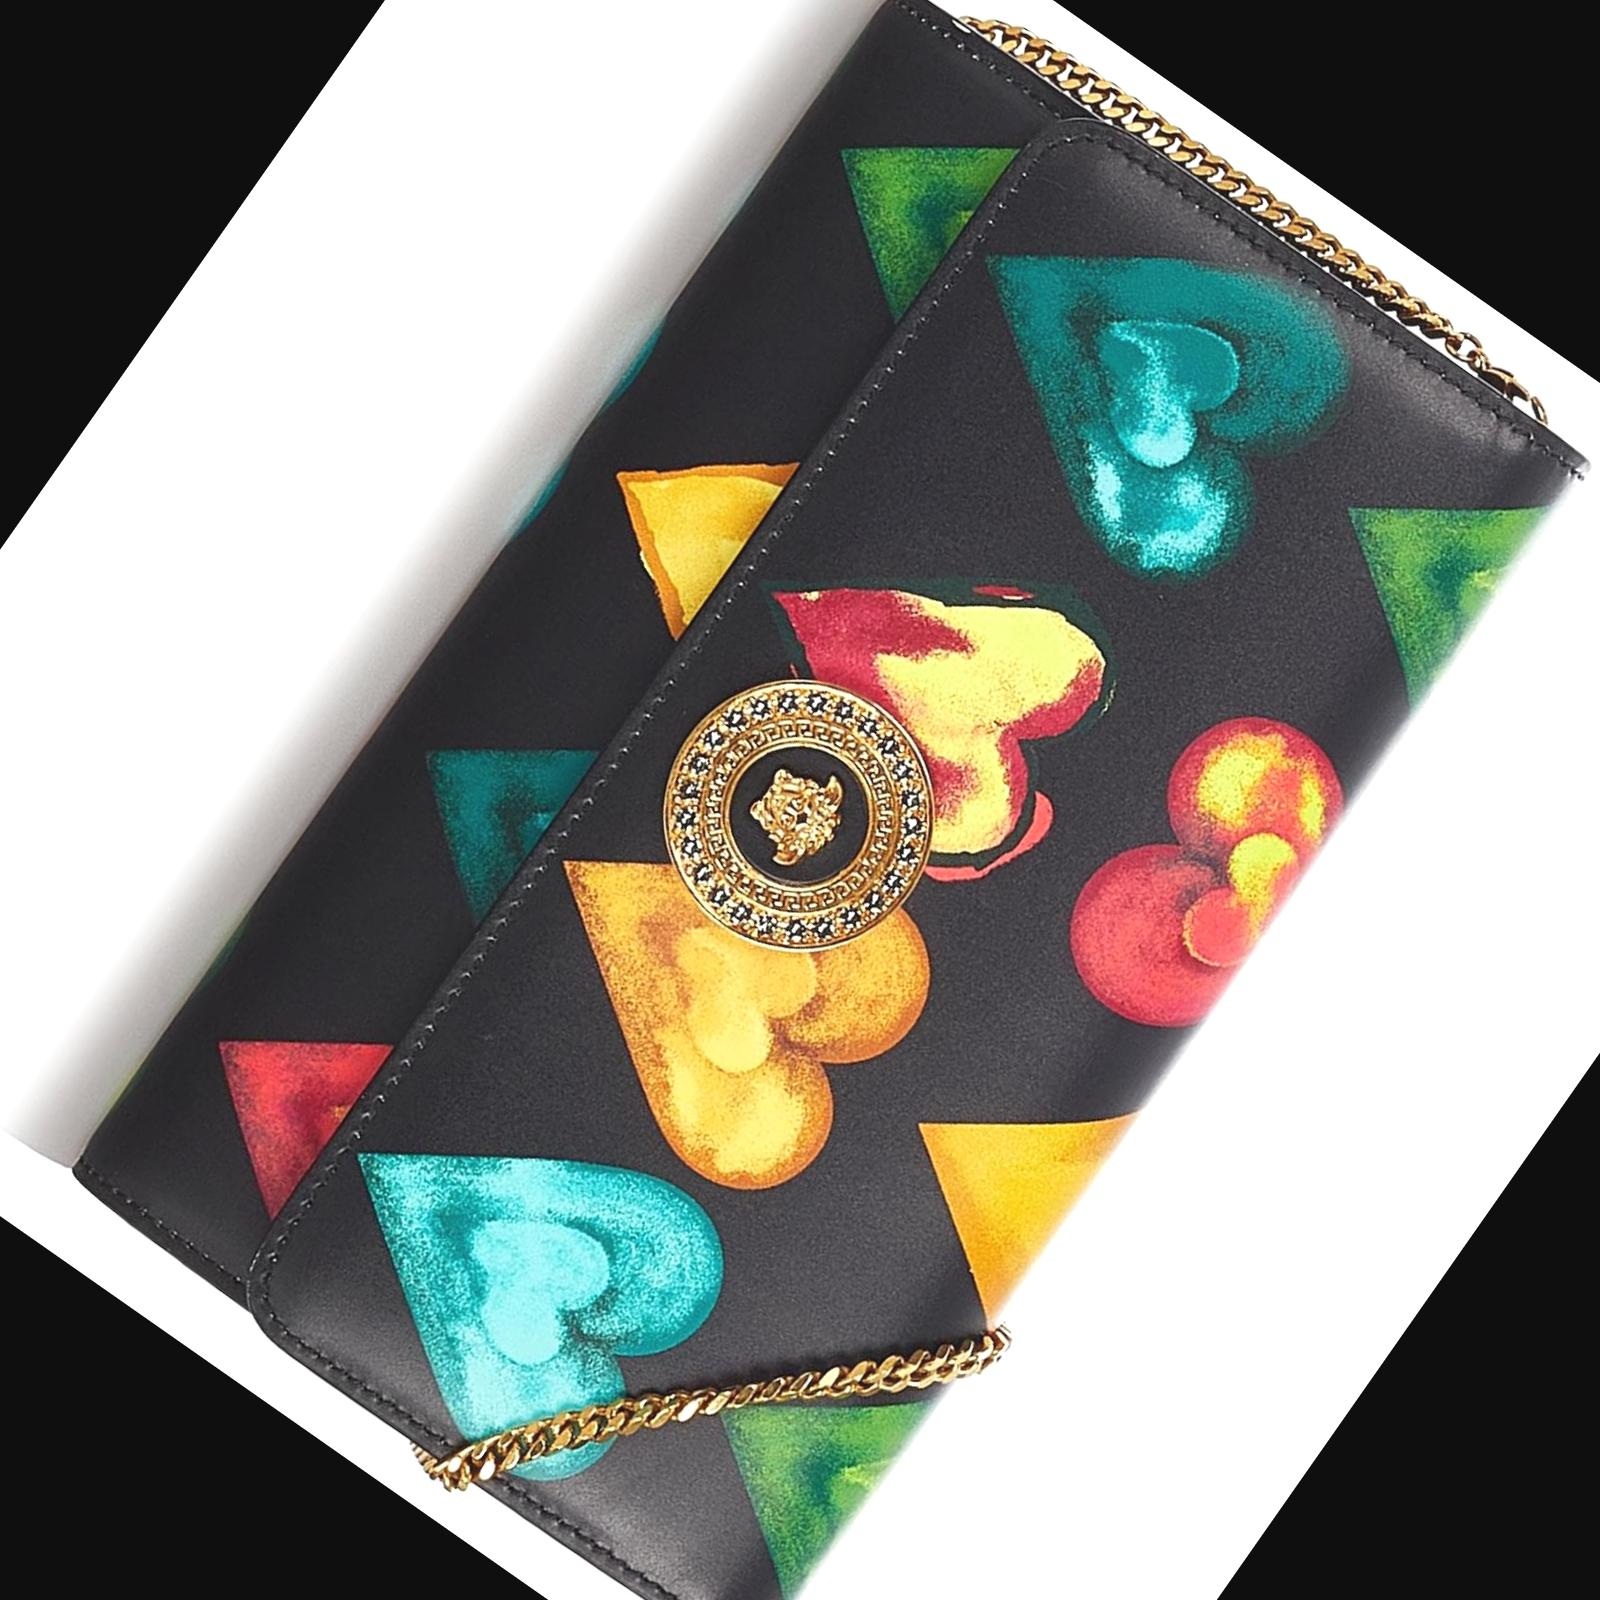VERSACE: (610, 627, 988, 1004)
